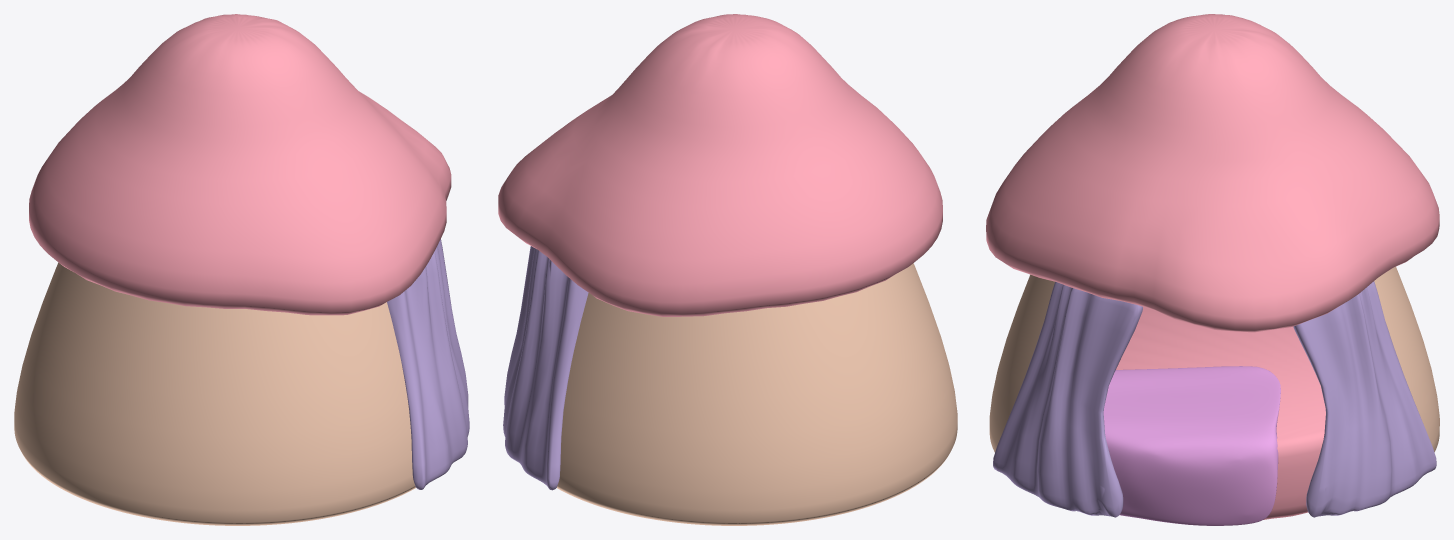
File: bed_new.fbx
The picture shows the model from 3 angles, left to right: view 1: azimuth 30°, elevation 25°; view 2: azimuth 150°, elevation 25°; view 3: azimuth 270°, elevation 25°; orthographic projection.
Parts seen in each view (by area): view 1: top, sides, curtain; view 2: top, sides, curtain; view 3: top, curtain, blanket, mattress, sides.
Boxes of the visible parts, x1,y1,x2,y2 form: top: (29, 14, 451, 315); sides: (14, 262, 415, 525); curtain: (387, 239, 469, 489); top: (498, 14, 942, 316); sides: (557, 263, 957, 525); curtain: (503, 246, 588, 490); top: (986, 14, 1439, 332); curtain: (993, 281, 1436, 517); blanket: (1103, 366, 1280, 525); mattress: (1116, 307, 1325, 519); sides: (989, 266, 1439, 452).
Size of the model in its own units: 3.77 by 3.63 by 3.65.
